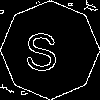S: (25, 25, 58, 71)
